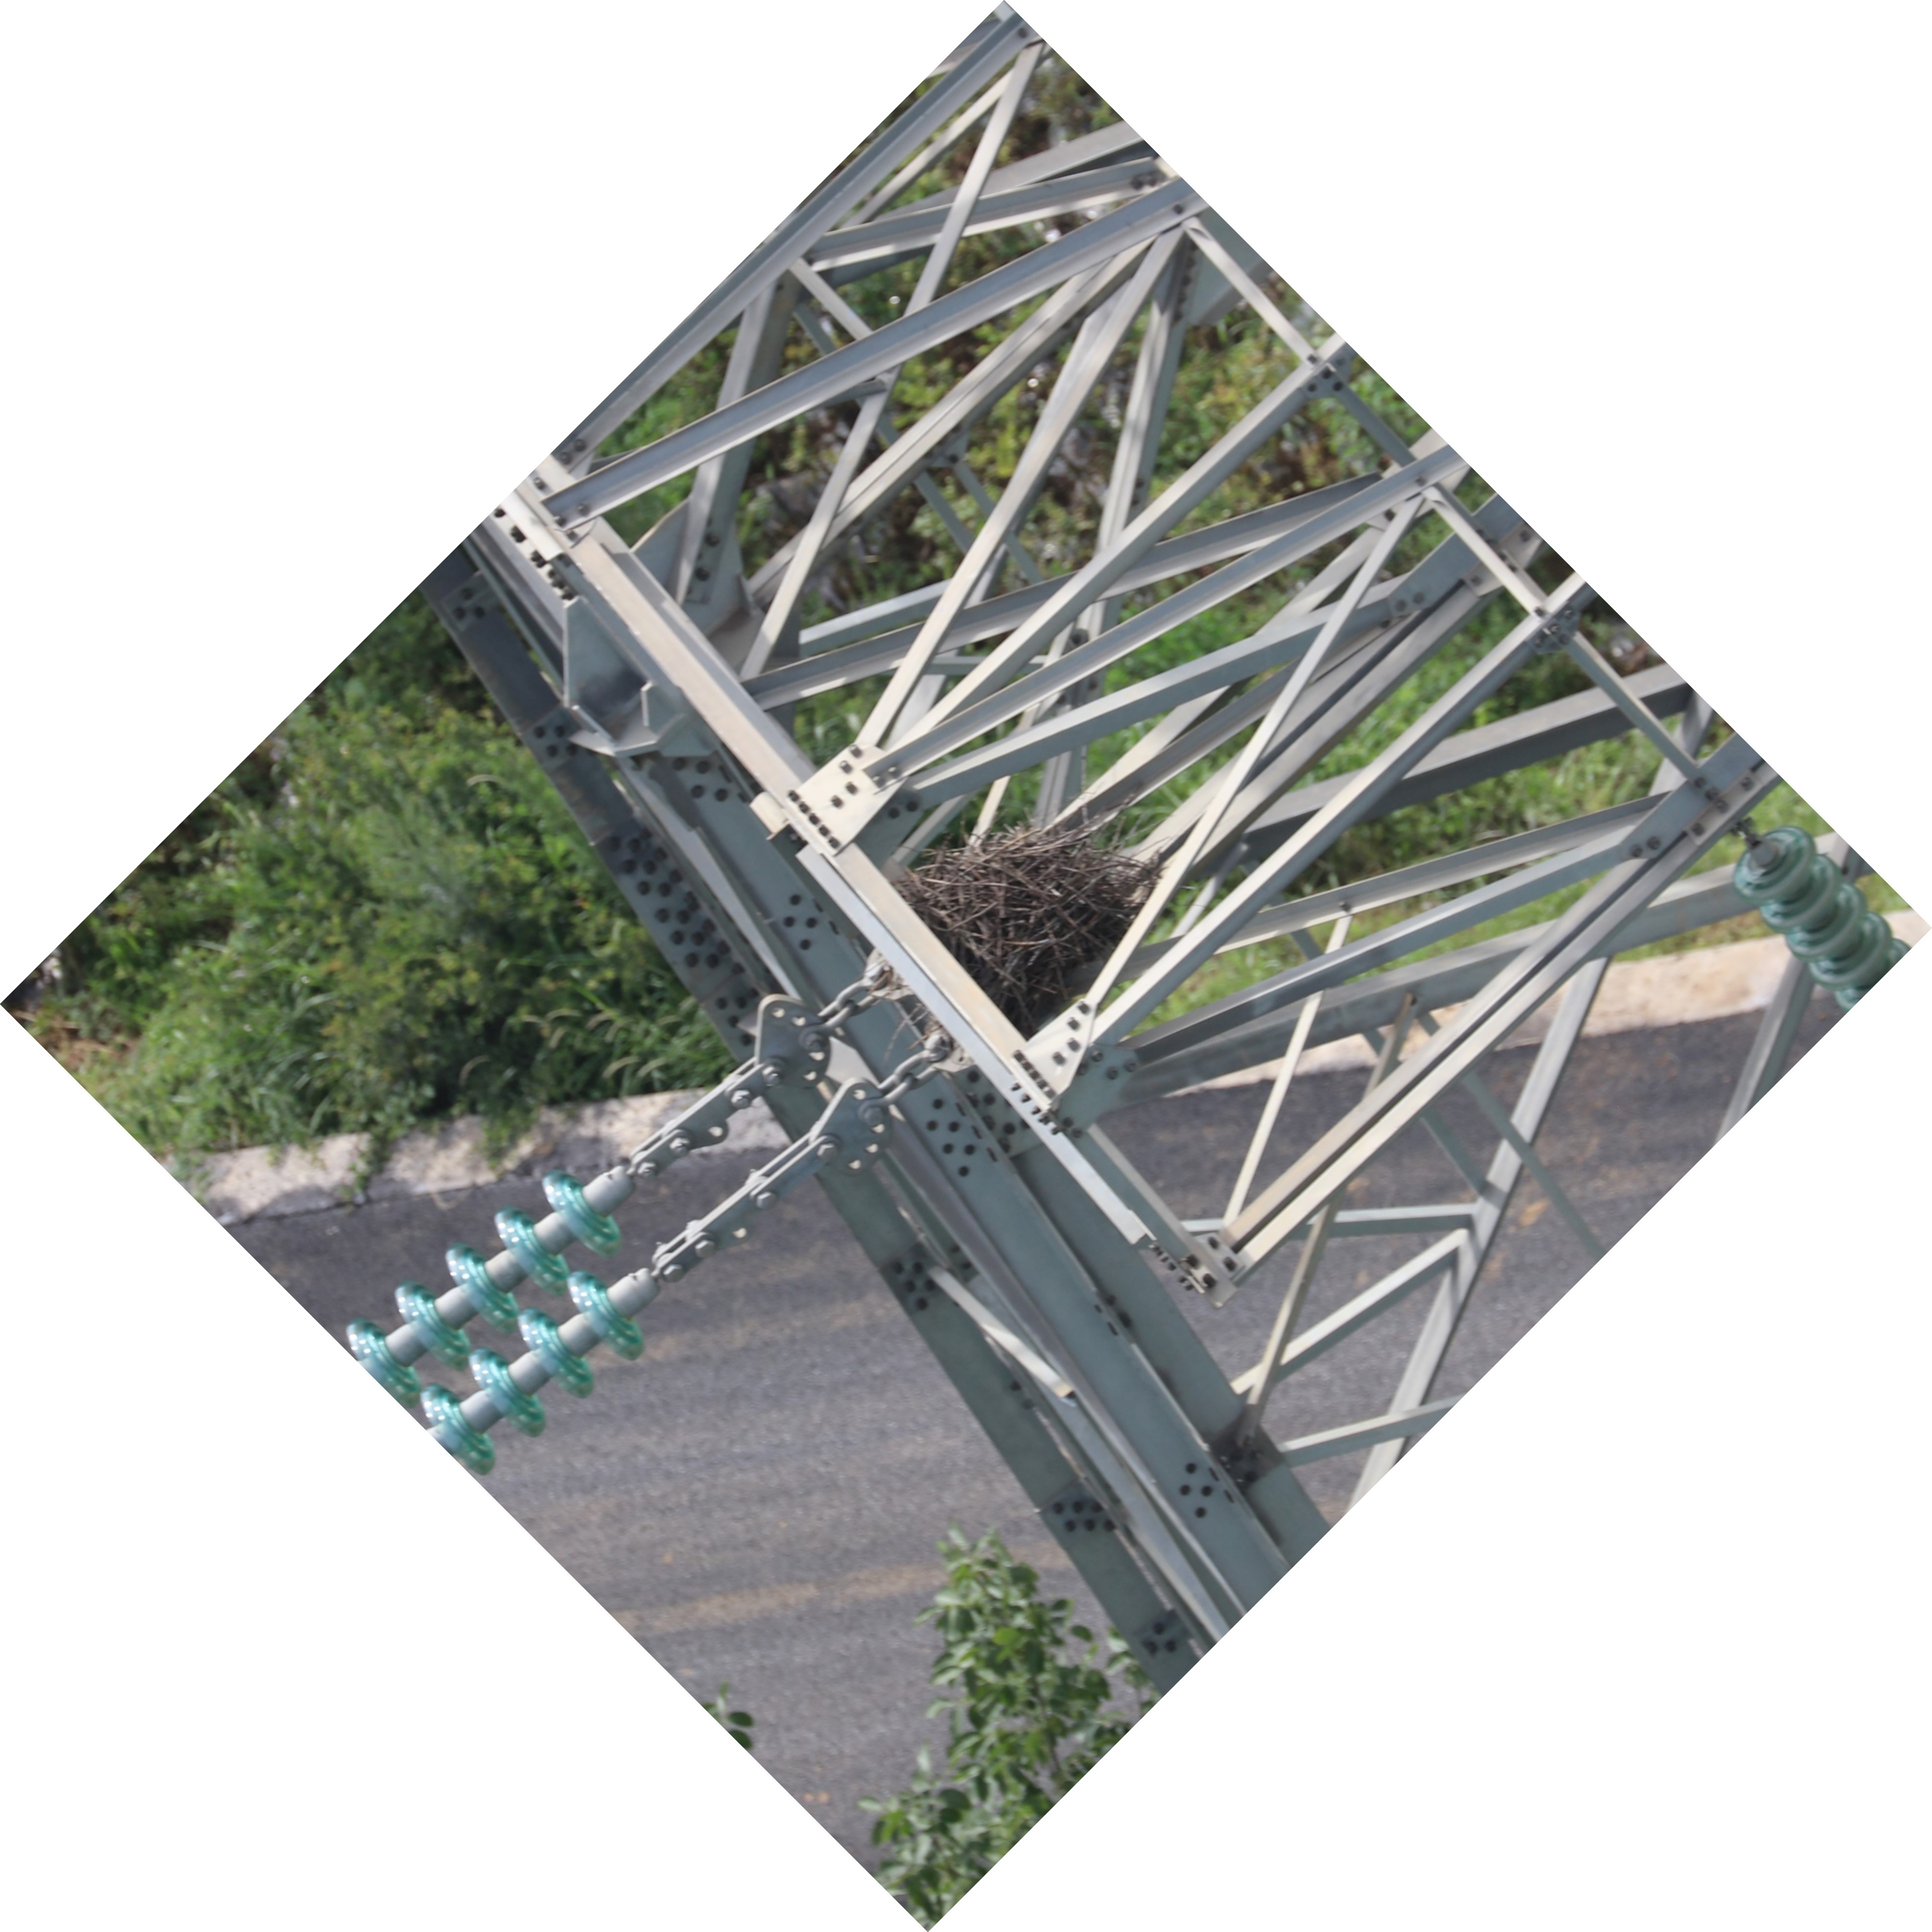niaowo: (863, 807, 1162, 1046)
